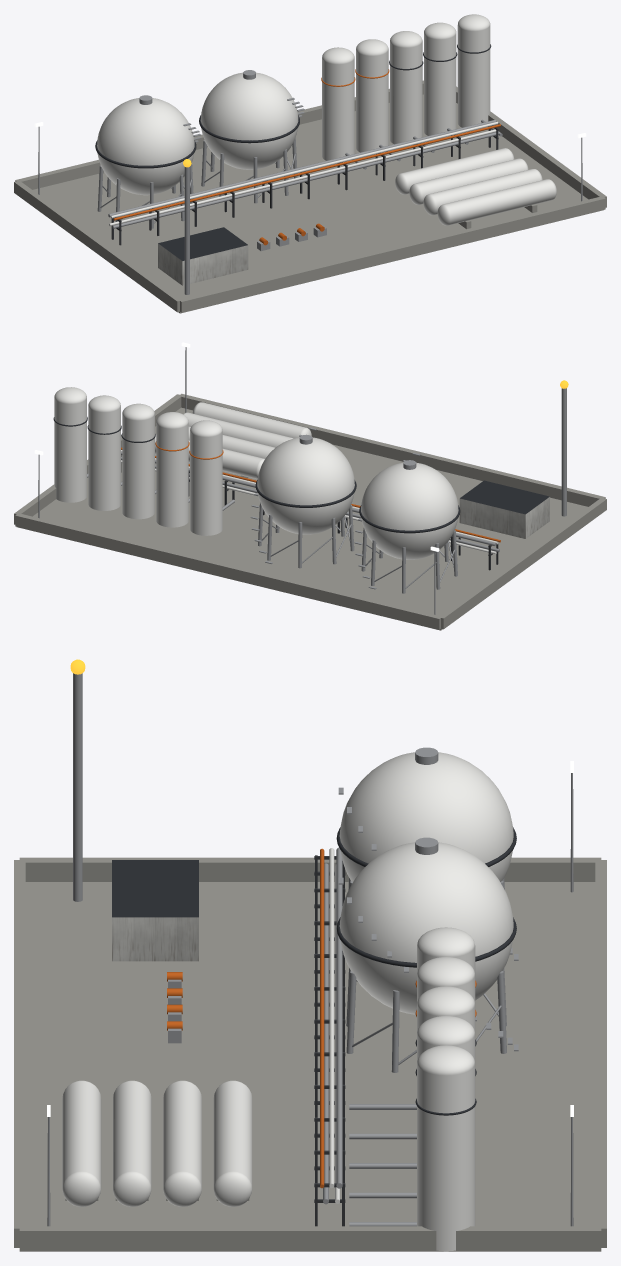
Rendered from EA10_tank_farm.glb.
3 views of the same model, one above another, from view 1: azimuth 30°, elevation 25°; view 2: azimuth 150°, elevation 25°; view 3: azimuth 270°, elevation 25° (orthographic). The views are drawn at different scales.
Visible parts, largest first — view 1: farm_slab, vertical_tank (×5), sphere_tank (×2), containment_wall (×4), bullet_tank (×4), process_pipe (×5), pump_house, EA10_tank_farm, flare_stack; view 2: farm_slab, vertical_tank (×5), containment_wall (×4), sphere_tank (×2), bullet_tank (×4), pump_house, EA10_tank_farm, flare_stack; view 3: farm_slab, sphere_tank (×2), containment_wall (×4), bullet_tank (×4), vertical_tank, pump_house, process_pipe (×4), EA10_tank_farm, bullet_end (×4), flare_stack, sphere_equator.
Part boxes in pixels (<box>): farm_slab: <box>33,94,603,313</box>; vertical_tank (×5): <box>322,25,490,162</box>; sphere_tank (×2): <box>97,72,298,195</box>; containment_wall (×4): <box>14,80,606,312</box>; bullet_tank (×4): <box>400,148,554,225</box>; process_pipe (×5): <box>108,119,500,228</box>; pump_house: <box>158,227,248,285</box>; EA10_tank_farm: <box>322,14,490,64</box>; flare_stack: <box>184,167,189,294</box>; farm_slab: <box>17,407,587,630</box>; vertical_tank (×5): <box>54,397,222,535</box>; containment_wall (×4): <box>14,393,606,629</box>; sphere_tank (×2): <box>257,437,458,559</box>; bullet_tank (×4): <box>155,402,305,479</box>; pump_house: <box>459,480,549,538</box>; EA10_tank_farm: <box>54,387,222,437</box>; flare_stack: <box>561,388,566,516</box>; farm_slab: <box>19,882,601,1251</box>; sphere_tank (×2): <box>339,752,513,1014</box>; containment_wall (×4): <box>14,857,606,1250</box>; bullet_tank (×4): <box>62,1081,252,1188</box>; vertical_tank: <box>417,1064,475,1251</box>; pump_house: <box>112,860,198,961</box>; process_pipe (×4): <box>320,847,342,1204</box>; EA10_tank_farm: <box>417,927,475,1075</box>; bullet_end (×4): <box>62,1171,252,1206</box>; flare_stack: <box>73,673,82,901</box>; sphere_equator: <box>336,917,516,967</box>.
Size of the model in its own units: 91.55 by 27.7 by 61.2.
Materials: 9 (1 with a texture image).
